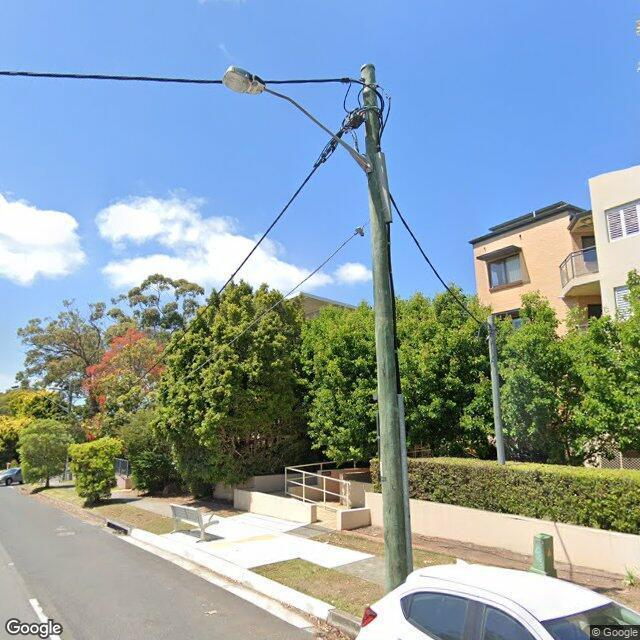steel-pole: (488, 314, 505, 466)
streetlight: (223, 64, 371, 174)
timber-pole: (361, 65, 413, 595)
